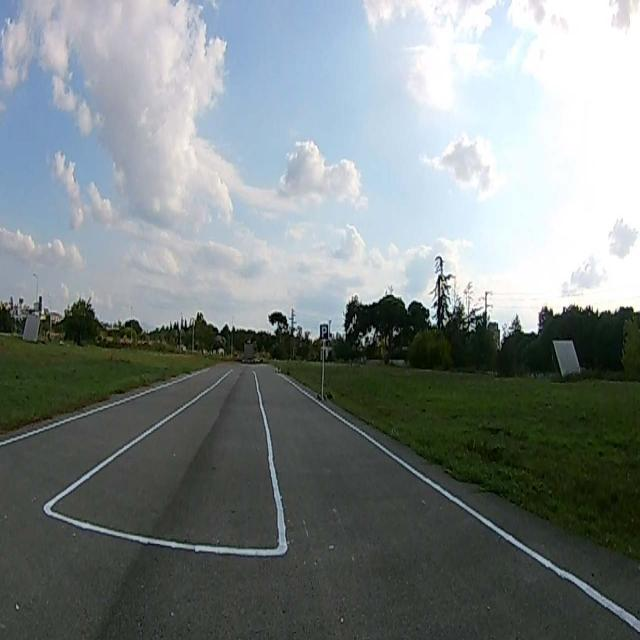park: (320, 323, 329, 341)
